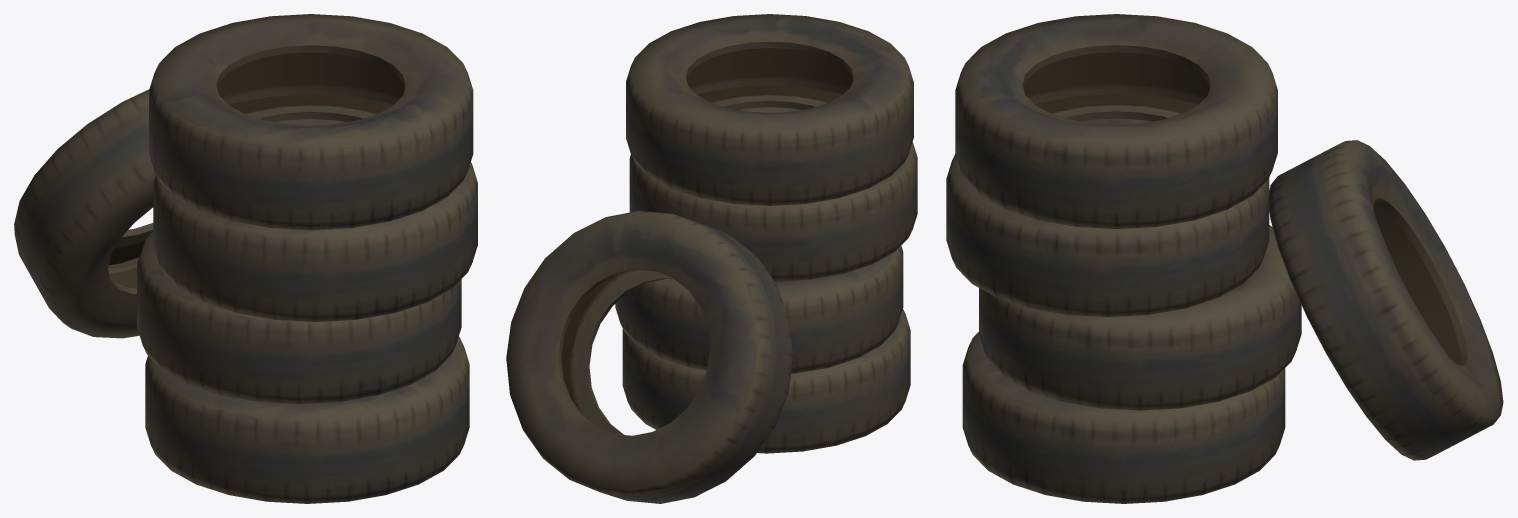
3 views of the same model, side by side, from view 1: azimuth 30°, elevation 25°; view 2: azimuth 150°, elevation 25°; view 3: azimuth 270°, elevation 25° (orthographic). The views are drawn at different scales.
Visible parts, largest first — view 1: body0_model0_lod0_mesh0; view 2: body0_model0_lod0_mesh0; view 3: body0_model0_lod0_mesh0.
Boxes of the visible parts, x1,y1,x2,y2 form: body0_model0_lod0_mesh0: [14, 14, 477, 503]; body0_model0_lod0_mesh0: [506, 14, 917, 503]; body0_model0_lod0_mesh0: [946, 14, 1503, 503].
Bounding box in the file's own units: 54.8 × 69.16 × 94.59.
Materials: 1 (1 with a texture image).
